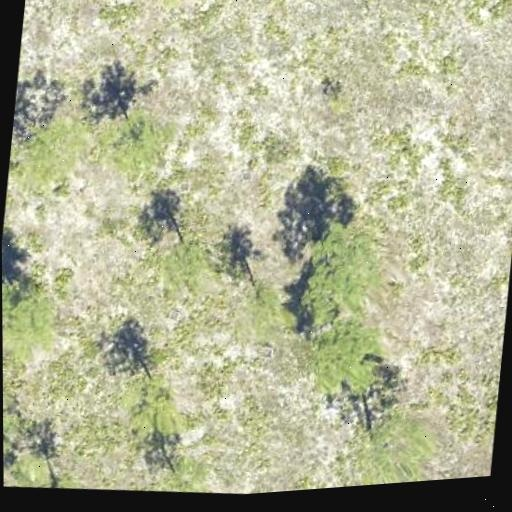tree-top: (289, 212, 388, 328), (306, 318, 390, 402), (98, 98, 180, 182), (2, 275, 74, 364), (14, 112, 88, 188), (119, 374, 195, 446), (157, 233, 219, 300)
